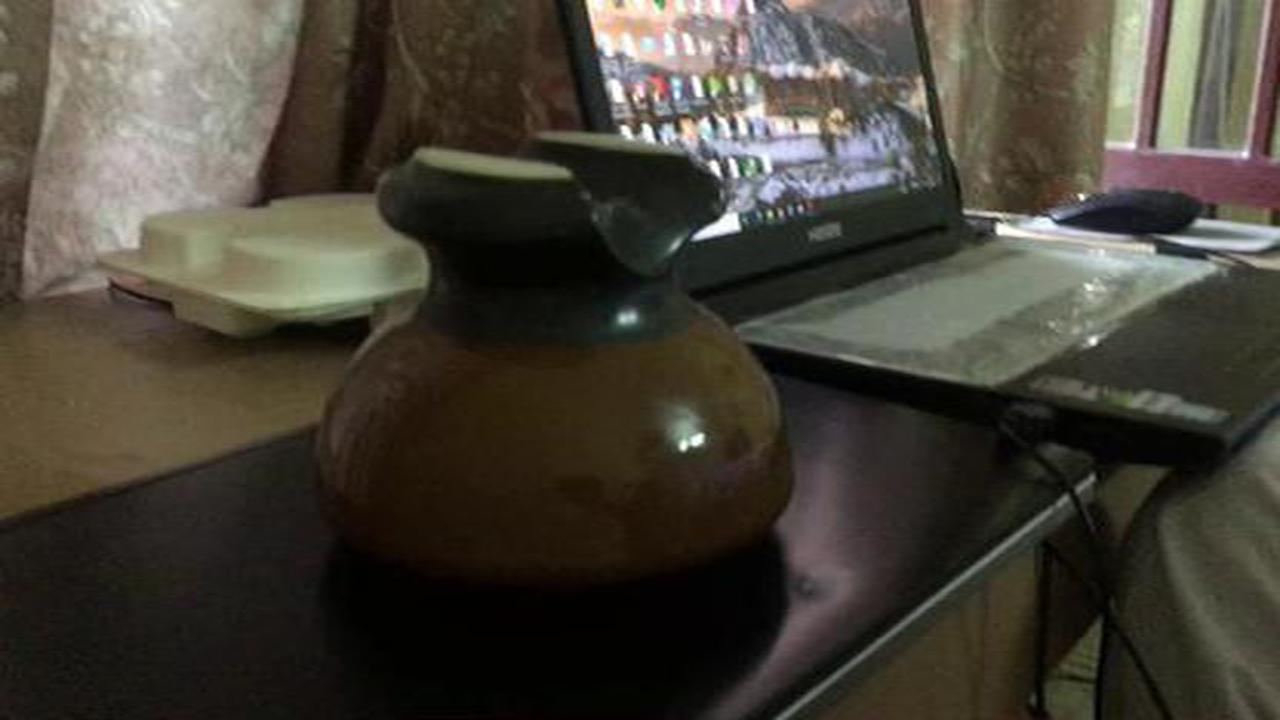insulator_pin: (296, 109, 816, 592)
